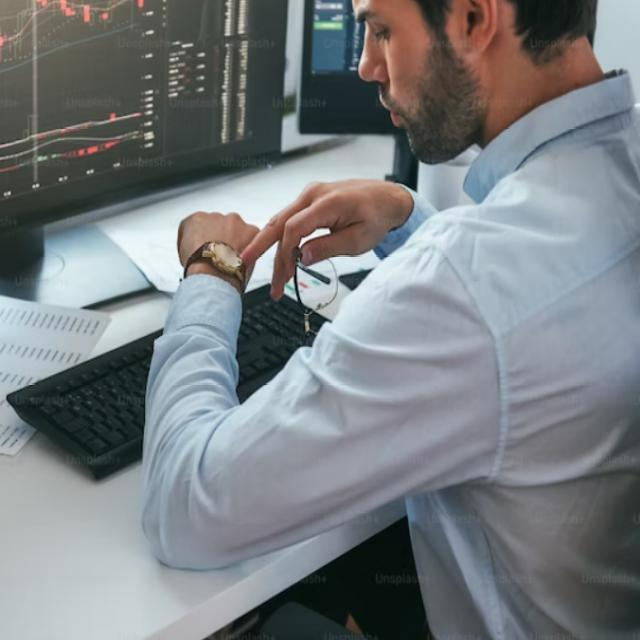Watch: (184, 236, 248, 284)
